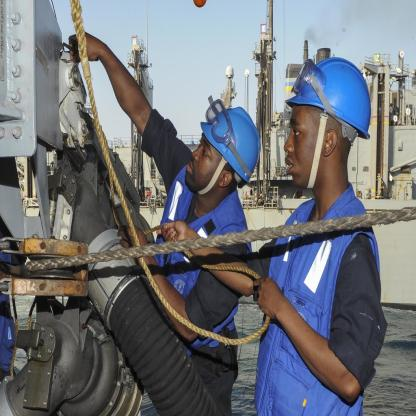Helmet: (288, 48, 374, 205), (196, 95, 261, 196)
